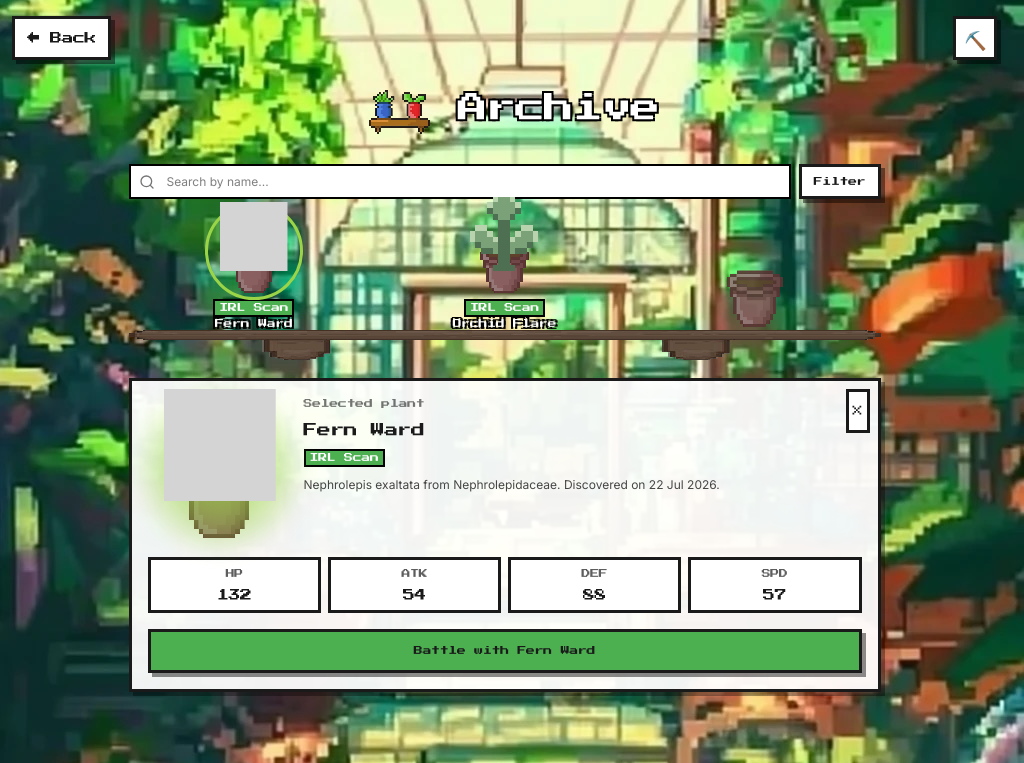
Test: ArchivePage › hands the selected owned Fern Ward avatar to the real Battle page
The image size is (1024, 763).
Expected: the heading "Fern Ward" is shown, 304,423 -> 424,437
Expected: the text "Discovered on 22 Jul 2026" is shown, 304,477 -> 720,492
Click the button with aria-label "select orchid flare": (505, 269) 379,207 -> 630,330
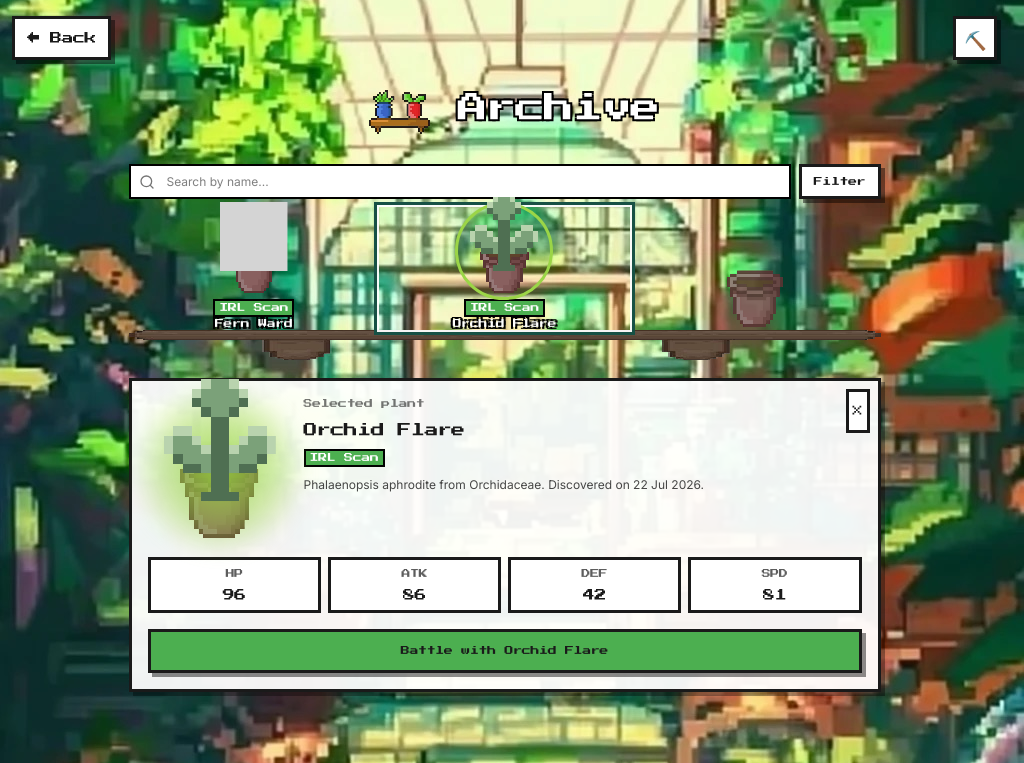
Expected: the heading "Orchid Flare" is shown, 304,423 -> 465,437
Click the button with aria-label "select fern ward": (254, 269) 128,207 -> 379,330
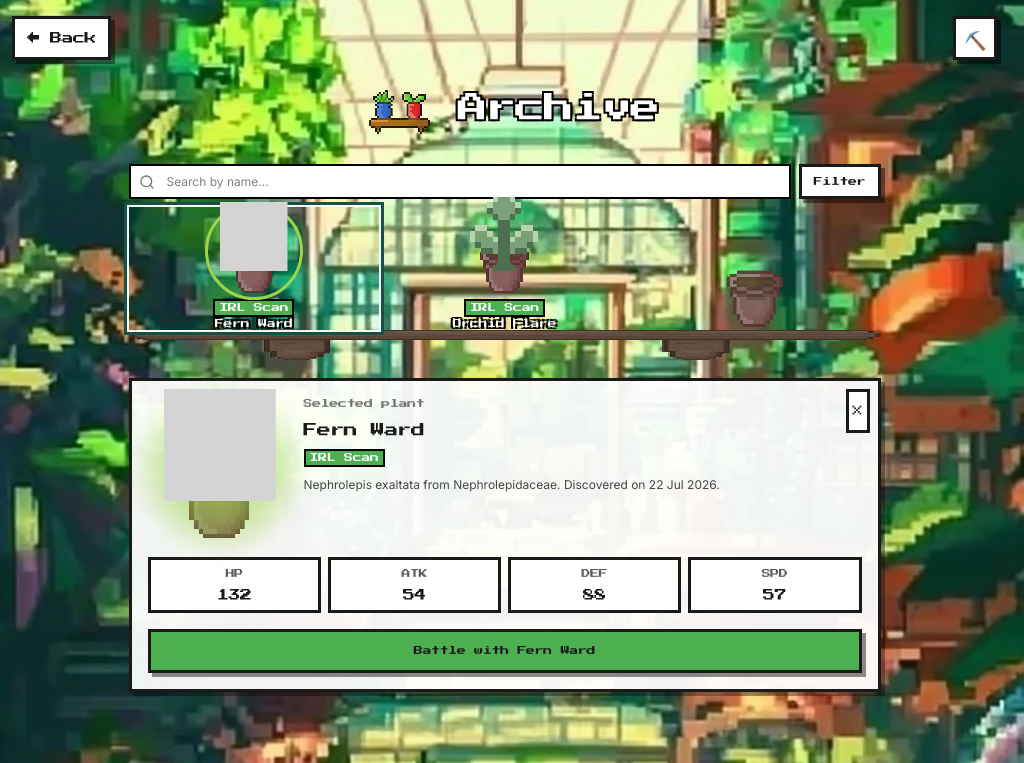
Click the button "Battle with Fern Ward": (504, 651) 148,629 -> 862,673
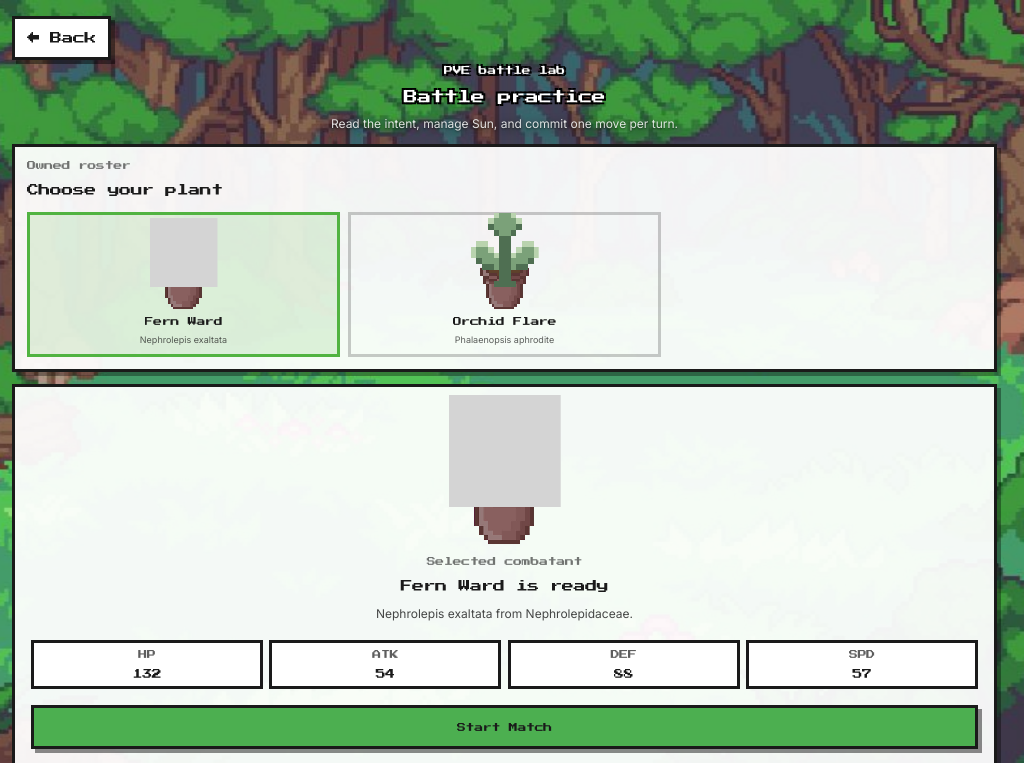
Expected: the heading "Fern Ward is ready" is shown, 401,580 -> 608,592
